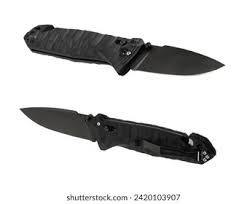Knife: (19, 106, 216, 164), (23, 23, 225, 76)
